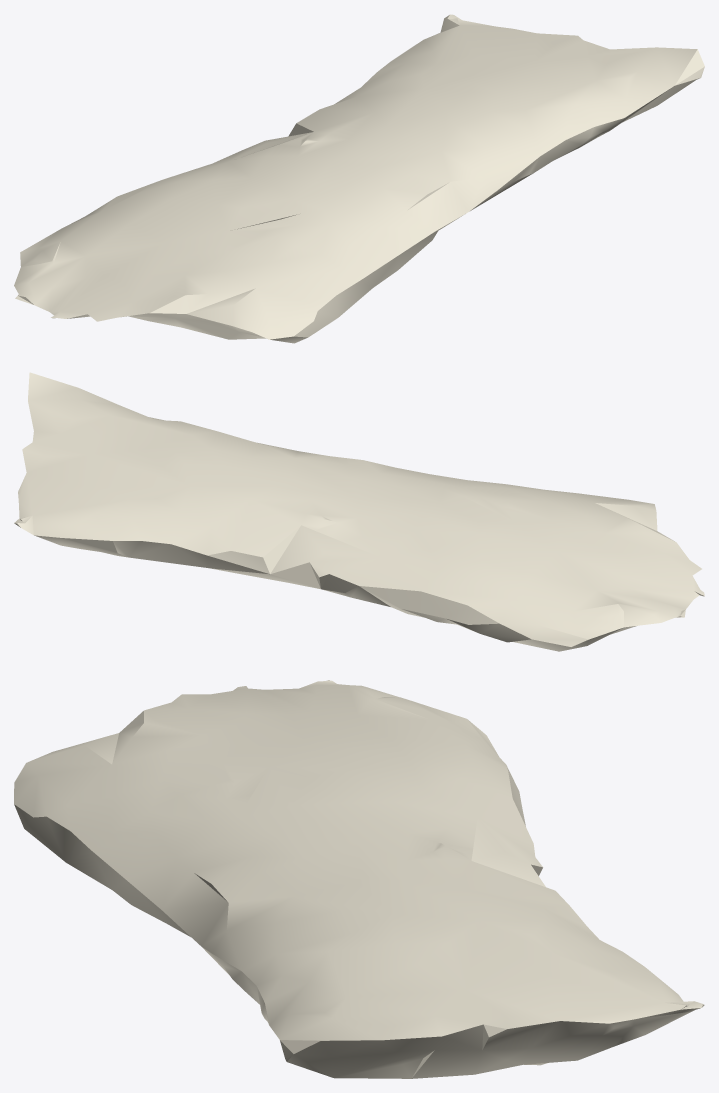
File: fma44500_mm1369.glb
3 renders of one model, top to bottom at view 1: azimuth 30°, elevation 25°; view 2: azimuth 150°, elevation 25°; view 3: azimuth 270°, elevation 25°, orthographic. The views are drawn at different scales.
Visible parts, largest first — view 1: FMA44500_MM1369; view 2: FMA44500_MM1369; view 3: FMA44500_MM1369.
Boxes of the visible parts, x1,y1,x2,y2 form: FMA44500_MM1369: [14, 14, 704, 343]; FMA44500_MM1369: [14, 372, 704, 651]; FMA44500_MM1369: [14, 680, 704, 1078].
Bounding box in the file's own units: 0.0195 × 0.00347 × 0.0117.
